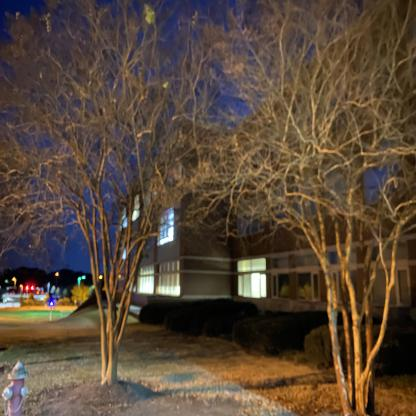eb2: (111, 30, 415, 325)
